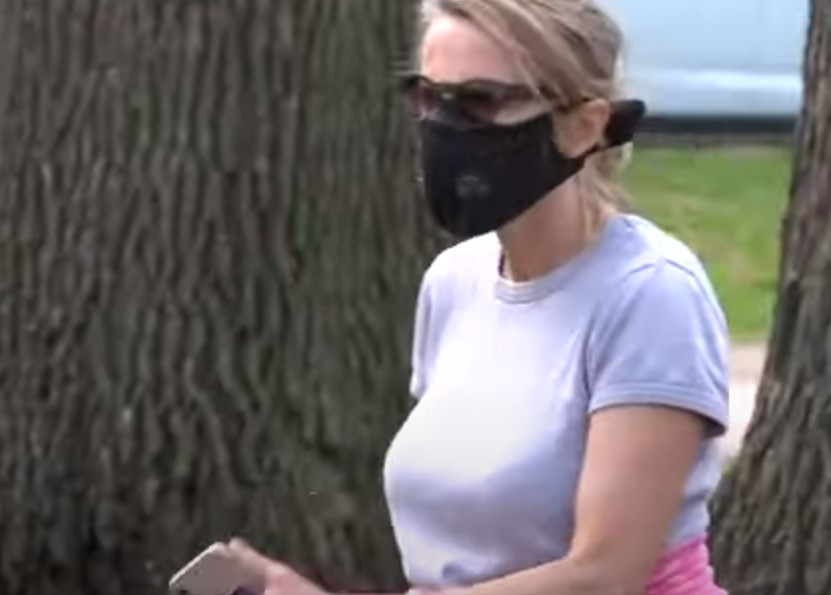face_with_mask: (387, 1, 625, 243)
